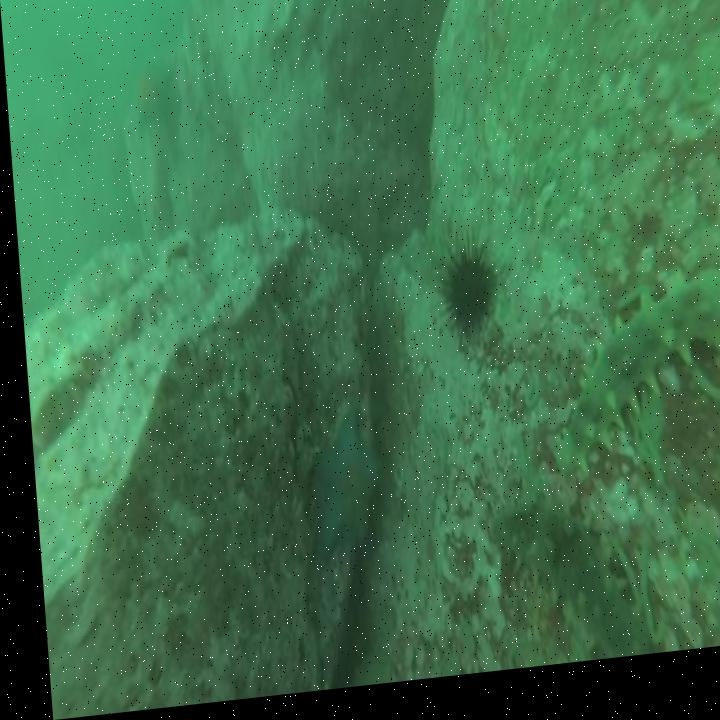echinus: (428, 236, 497, 351)
holothurian: (541, 276, 720, 502), (481, 477, 662, 681)
starfish: (296, 416, 381, 577)
